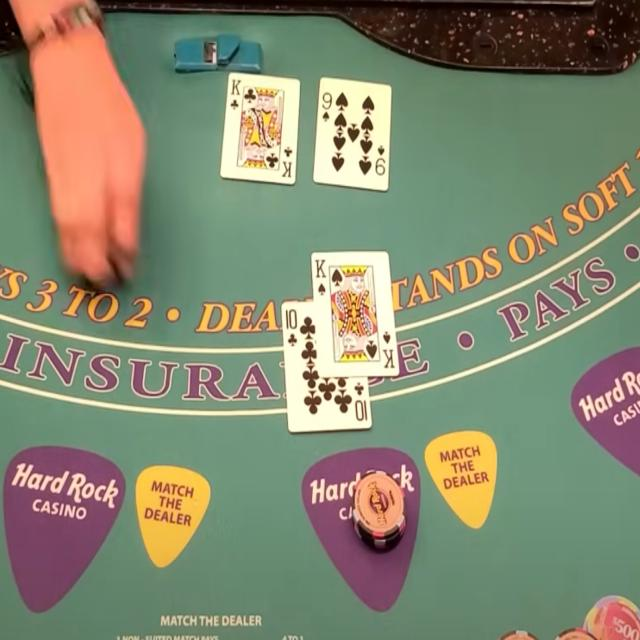10: (283, 307, 298, 331)
9: (320, 90, 334, 111)
K: (314, 257, 326, 280), (230, 76, 241, 96)
